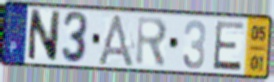3: (60, 10, 91, 66), (182, 18, 208, 71)
A: (95, 12, 137, 70)
E: (211, 20, 246, 73)
N: (26, 8, 63, 64)
R: (135, 15, 170, 70)
